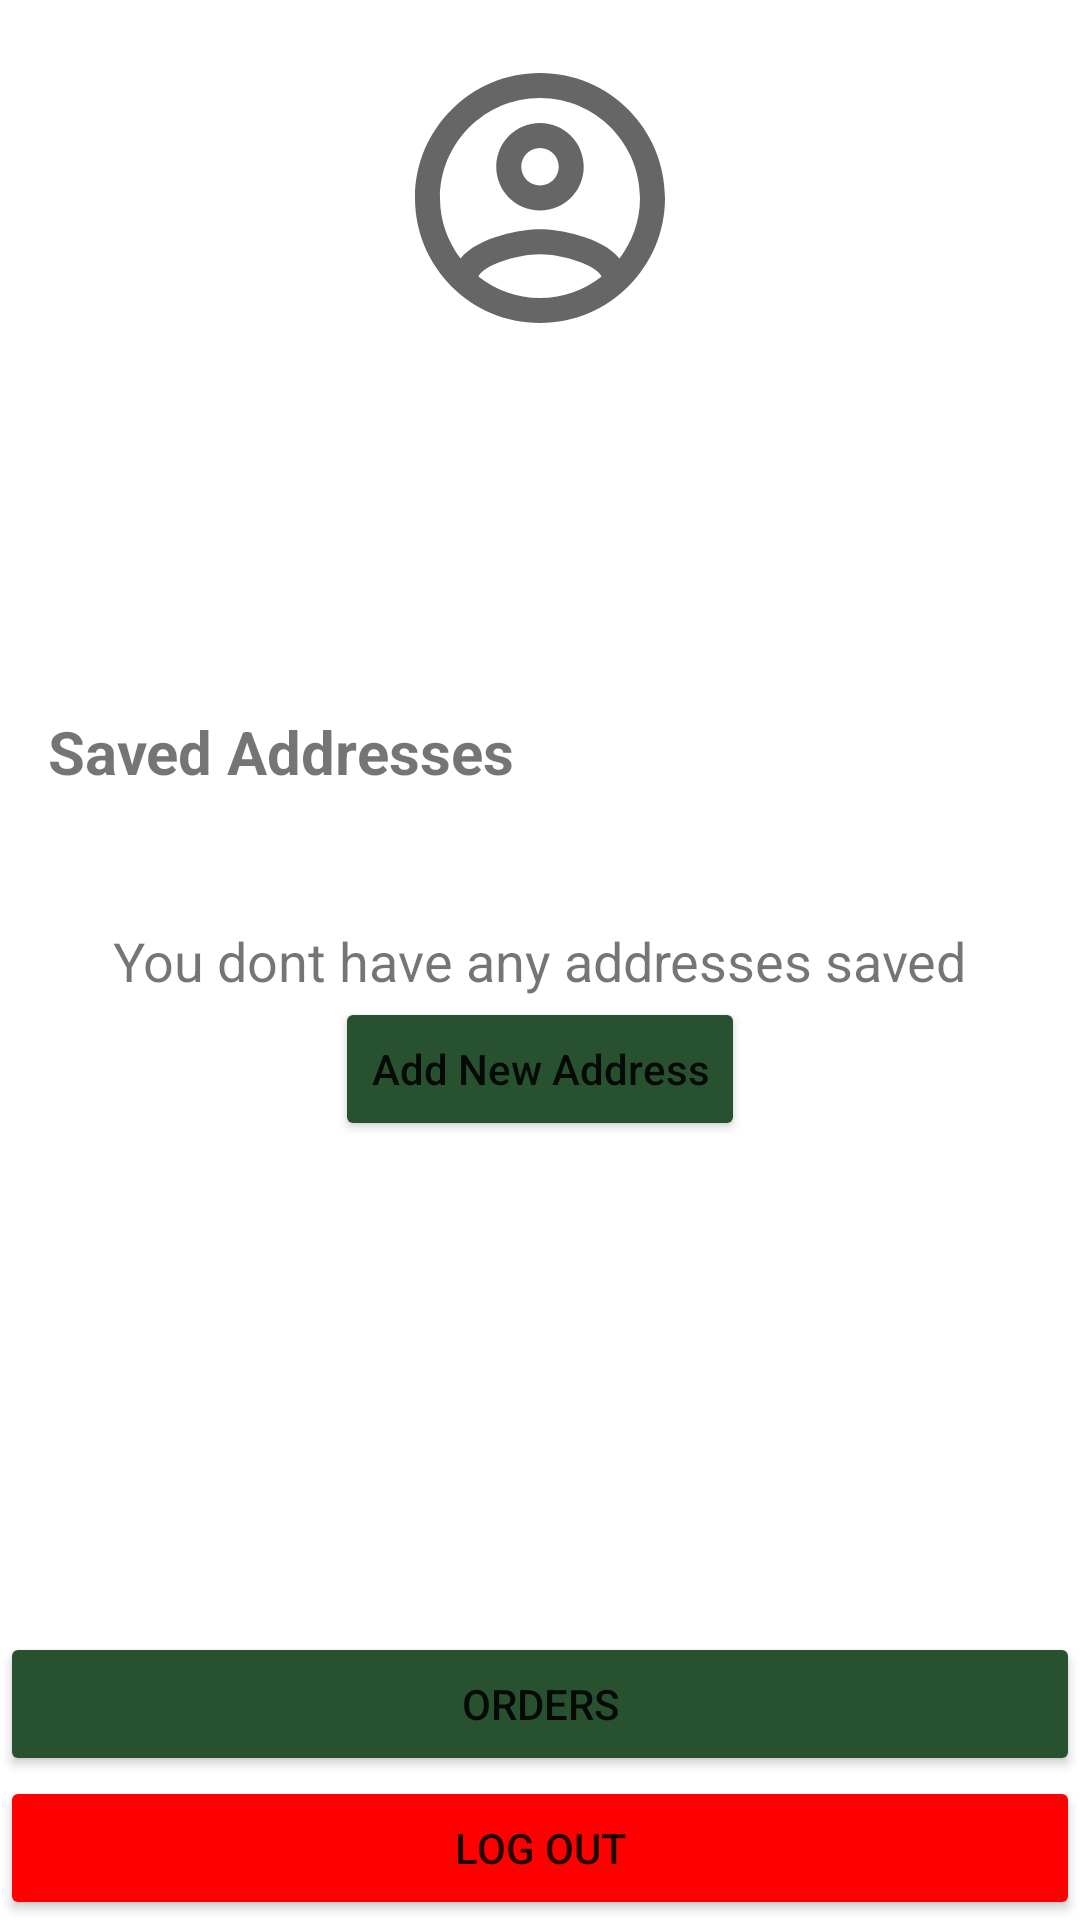

Where to tap for icons on this 1080px x 1920px app screen, as [x,y]:
account: [540,198]
